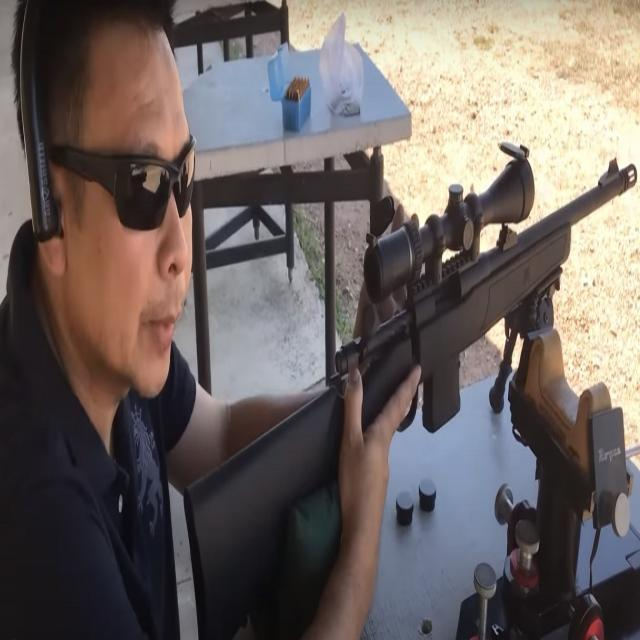rifle: (180, 132, 638, 630)
